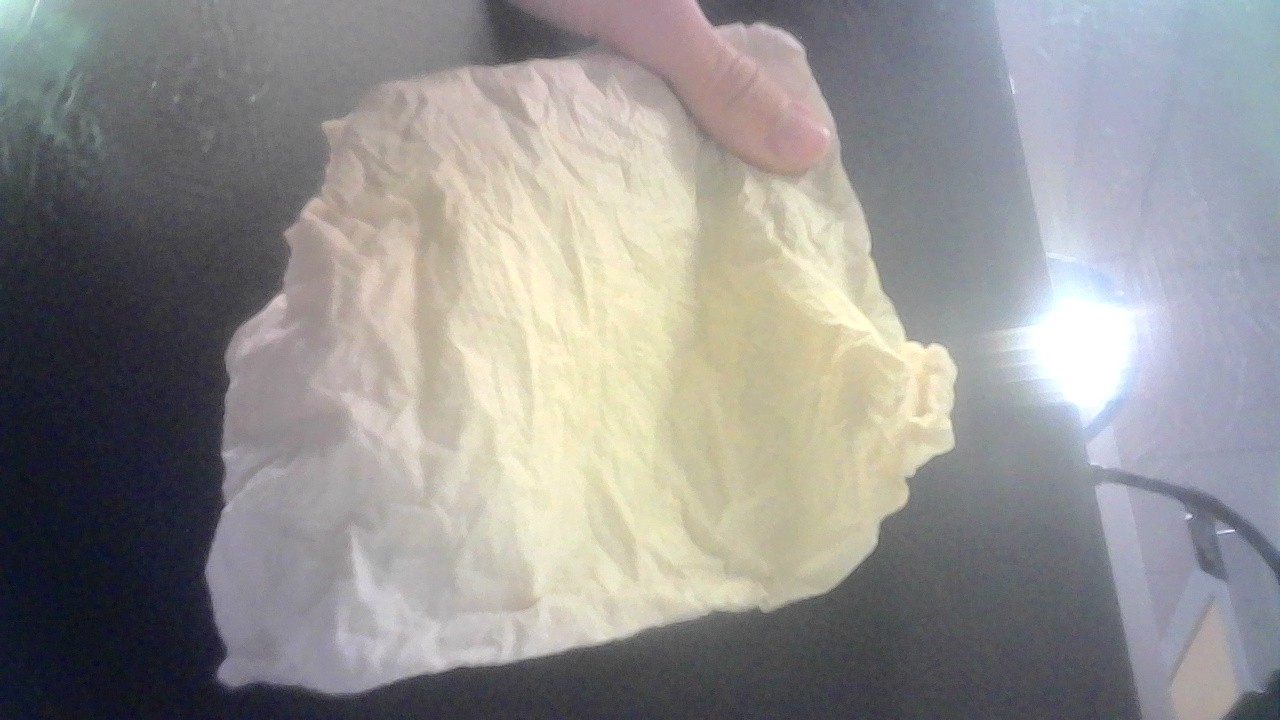Paper_Recycling: (91, 24, 959, 710)
